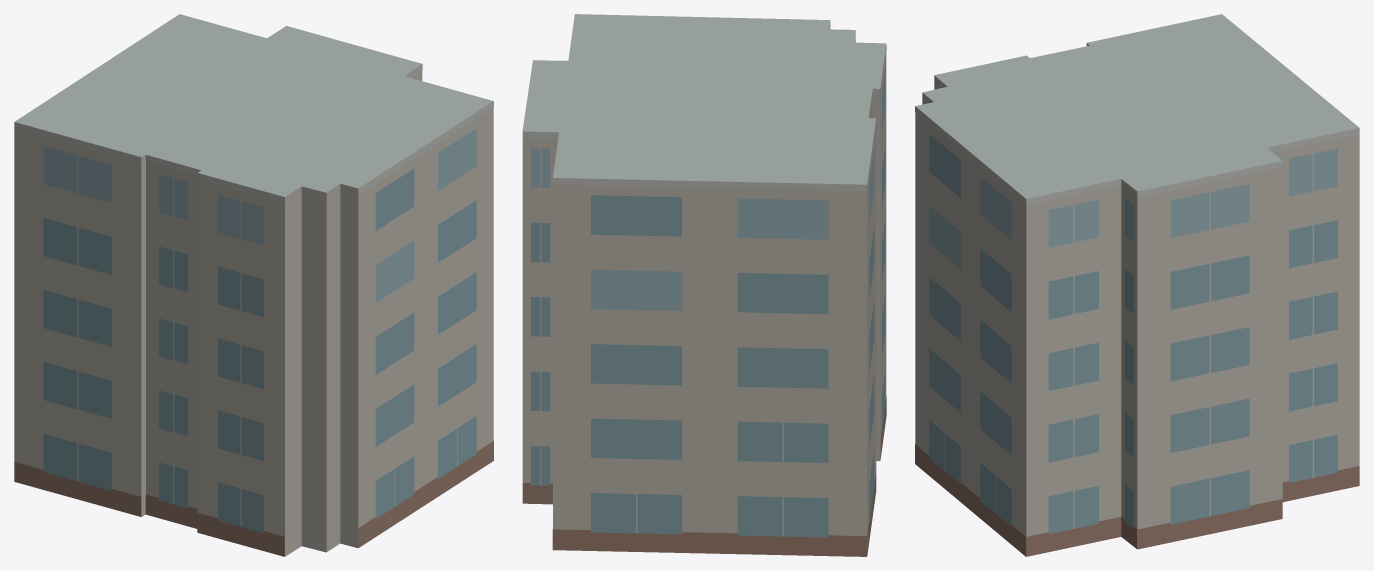
Rendered from survey-upis-32834809.glb.
3 views of the same model, side by side, from view 1: azimuth 30°, elevation 25°; view 2: azimuth 150°, elevation 25°; view 3: azimuth 270°, elevation 25° (orthographic). The views are drawn at different scales.
Parts seen in each view (by area): view 1: survey-upis-32834809.tmp; view 2: survey-upis-32834809.tmp; view 3: survey-upis-32834809.tmp.
Part boxes in pixels (left/top/right/bottom): survey-upis-32834809.tmp: left=14, top=14, right=493, bottom=556; survey-upis-32834809.tmp: left=522, top=14, right=886, bottom=556; survey-upis-32834809.tmp: left=915, top=14, right=1359, bottom=556.
Bounding box in the file's own units: 15.3 × 13.8 × 15.54.
